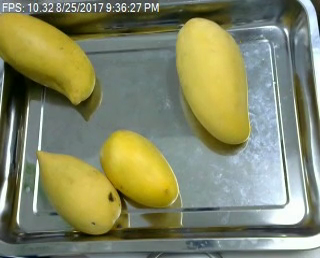Mango: (170, 18, 258, 145), (0, 3, 101, 112), (27, 150, 123, 235), (98, 122, 185, 212)
